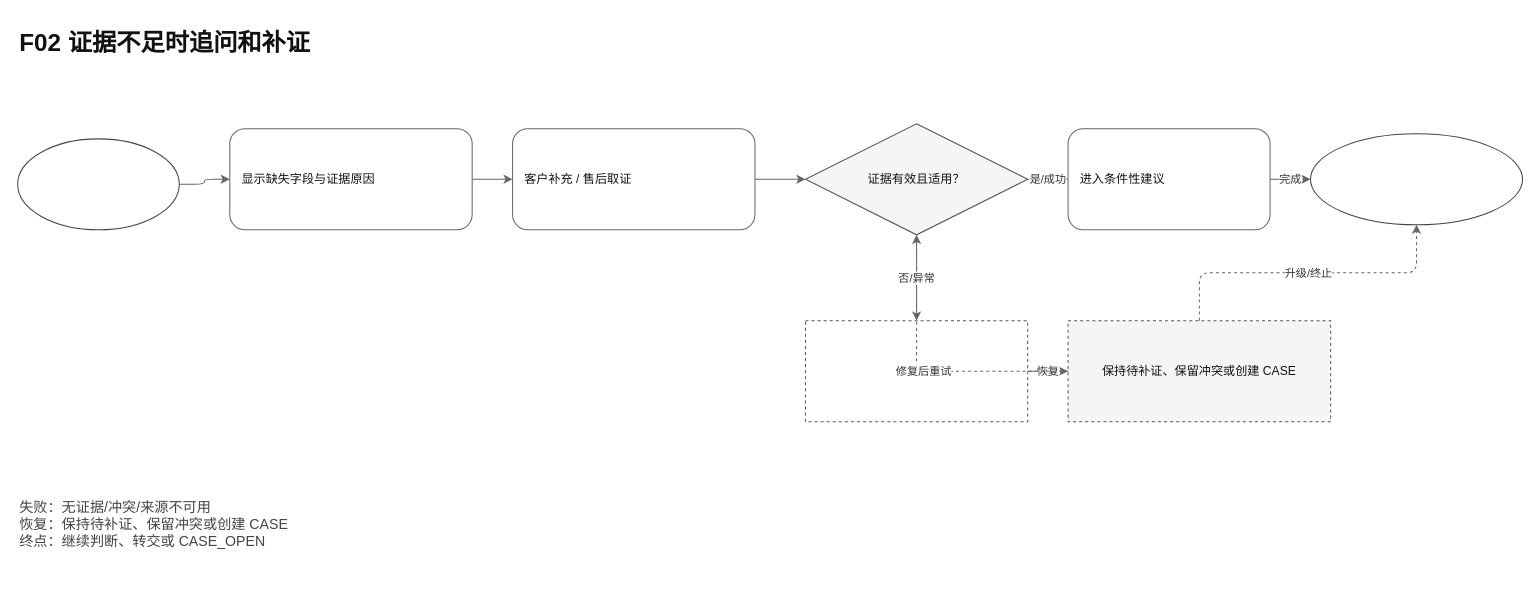
Image size: 1540x610. Some labels were removed from this diagram. The shapes that lost their labels are listed below. From the top down, each one's centre as x and y in pixels, then its label:
At point (98, 184): "ASQ 已存在但证据不足".
At point (1416, 179): "继续判断、转交或 CASE_OPEN".
At point (916, 371): "无证据/冲突/来源不可用".
